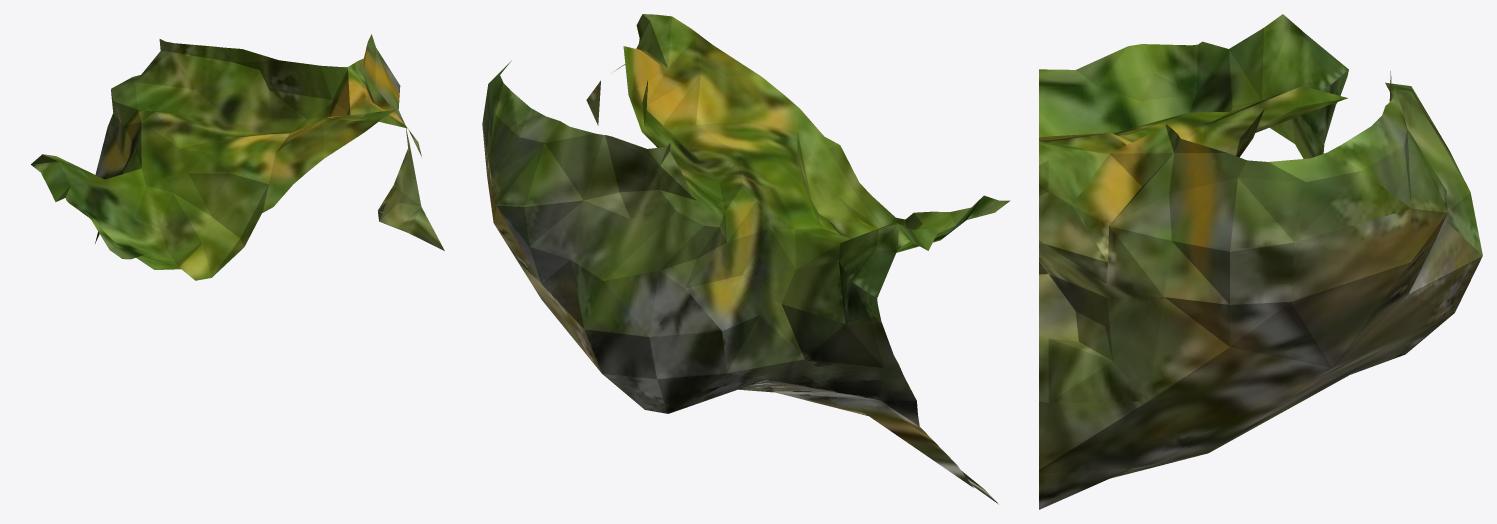
3 views of the same model, side by side, from view 1: azimuth 30°, elevation 25°; view 2: azimuth 150°, elevation 25°; view 3: azimuth 270°, elevation 25° (orthographic). The views are drawn at different scales.
Size of the model in its own units: 0.4057 by 0.3875 by 0.3164.
Materials: 1 (1 with a texture image).
